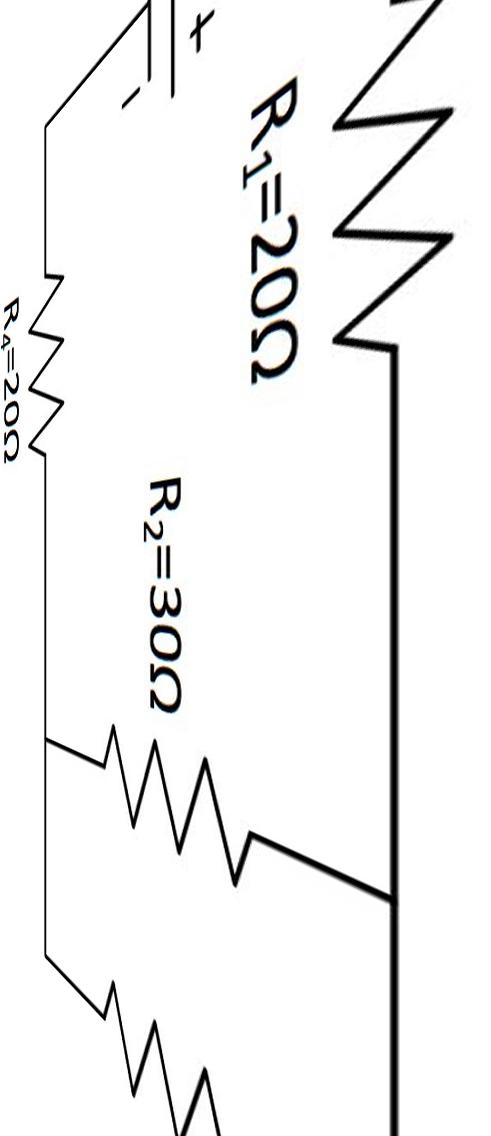resistor: (327, 3, 478, 381), (72, 683, 263, 907), (69, 944, 248, 1134), (26, 249, 88, 470)
